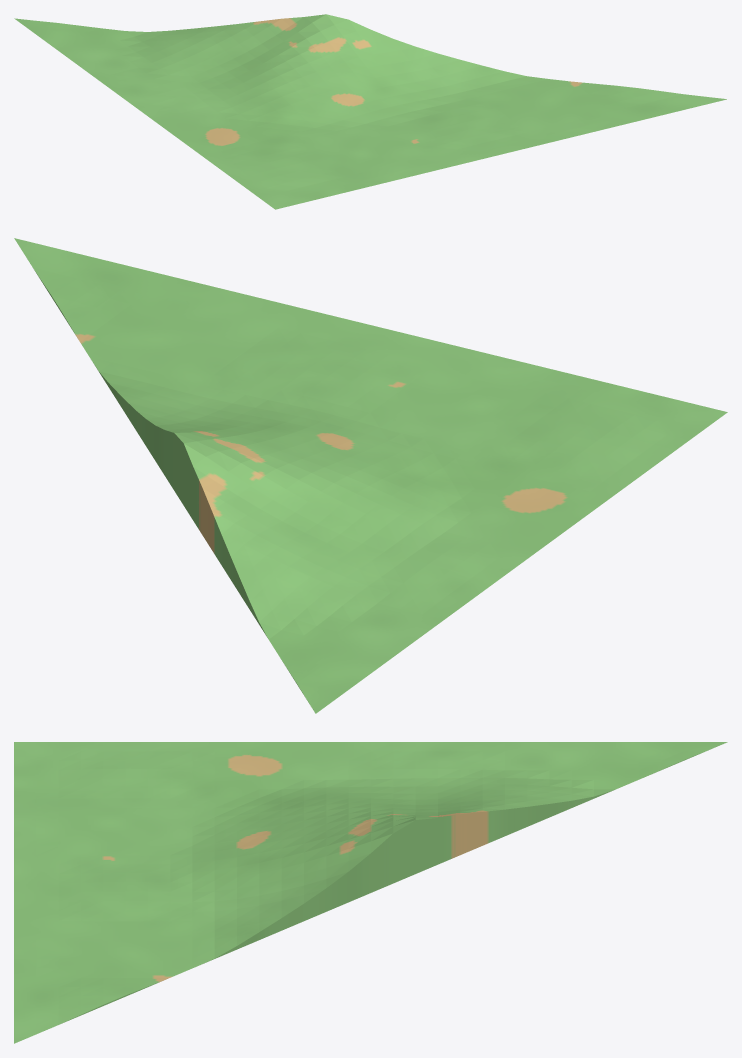
Rendered from Grass_Hills_01_NW.obj.
3 renders of one model, top to bottom at view 1: azimuth 30°, elevation 25°; view 2: azimuth 150°, elevation 25°; view 3: azimuth 270°, elevation 25°, orthographic. The views are drawn at different scales.
Size of the model in its own units: 10 by 0.8339 by 10.
Materials: 1 (1 with a texture image).
